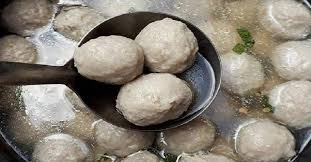bakso: (70, 10, 213, 124)
